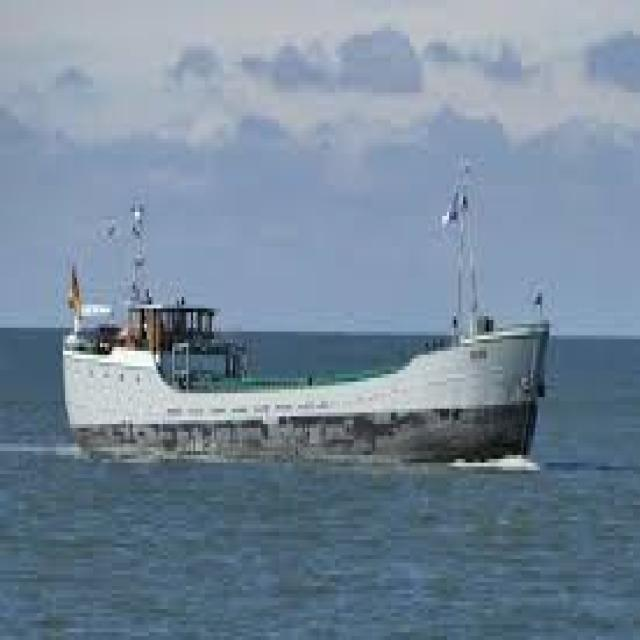cargoship: (57, 184, 555, 476)
